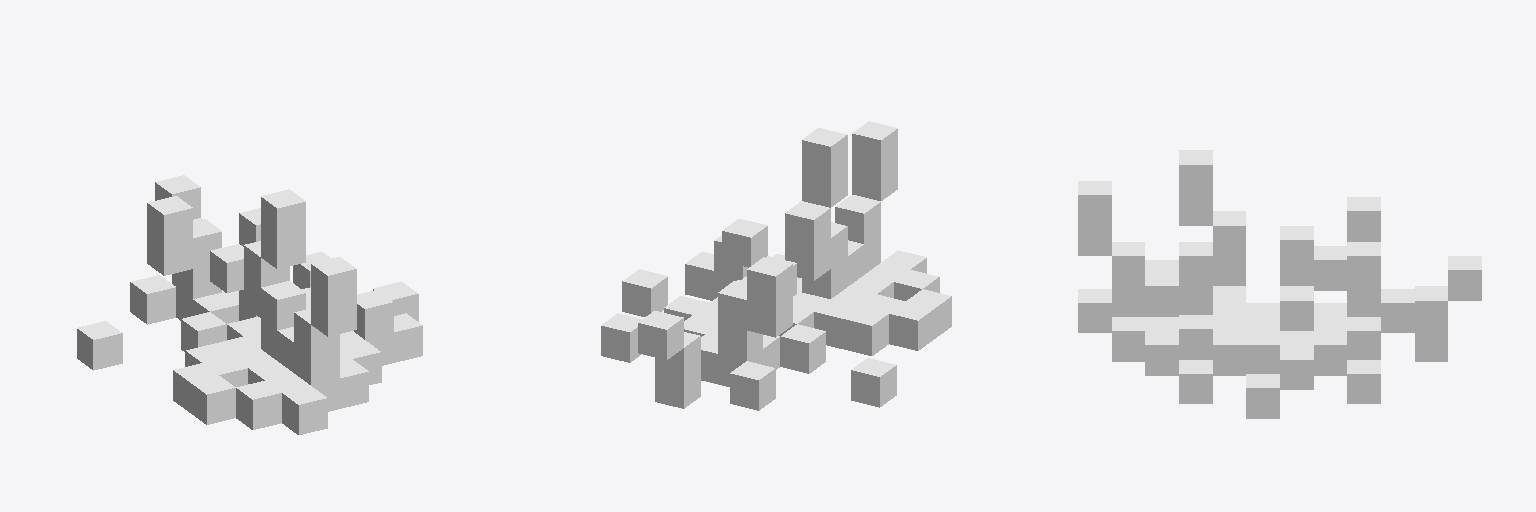
Rendered from grass1.obj.
The picture shows the model from 3 angles: view 1: azimuth 30°, elevation 25°; view 2: azimuth 150°, elevation 25°; view 3: azimuth 270°, elevation 25°; orthographic projection.
Visible parts, largest first — view 1: grass1; view 2: grass1; view 3: grass1.
Part boxes in pixels (left/top/right/bottom): grass1: left=77, top=175, right=422, bottom=434; grass1: left=601, top=121, right=951, bottom=410; grass1: left=1078, top=150, right=1481, bottom=418.
Size of the model in its own units: 1 by 0.6 by 1.2.